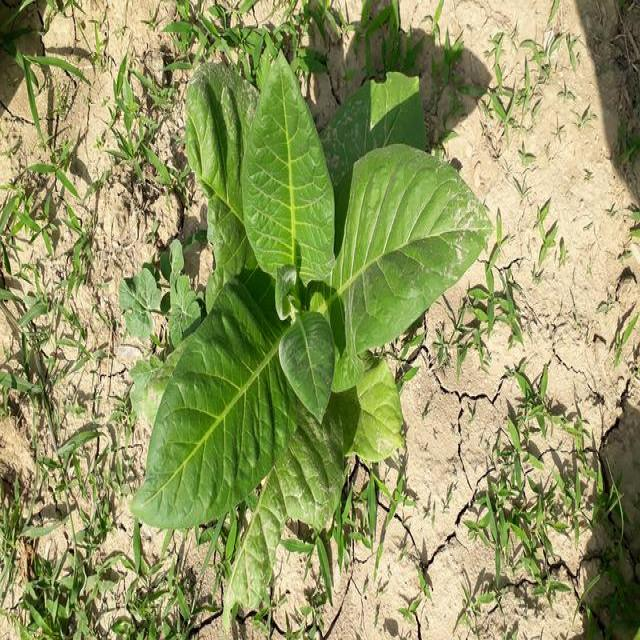crop: (154, 64, 484, 596)
